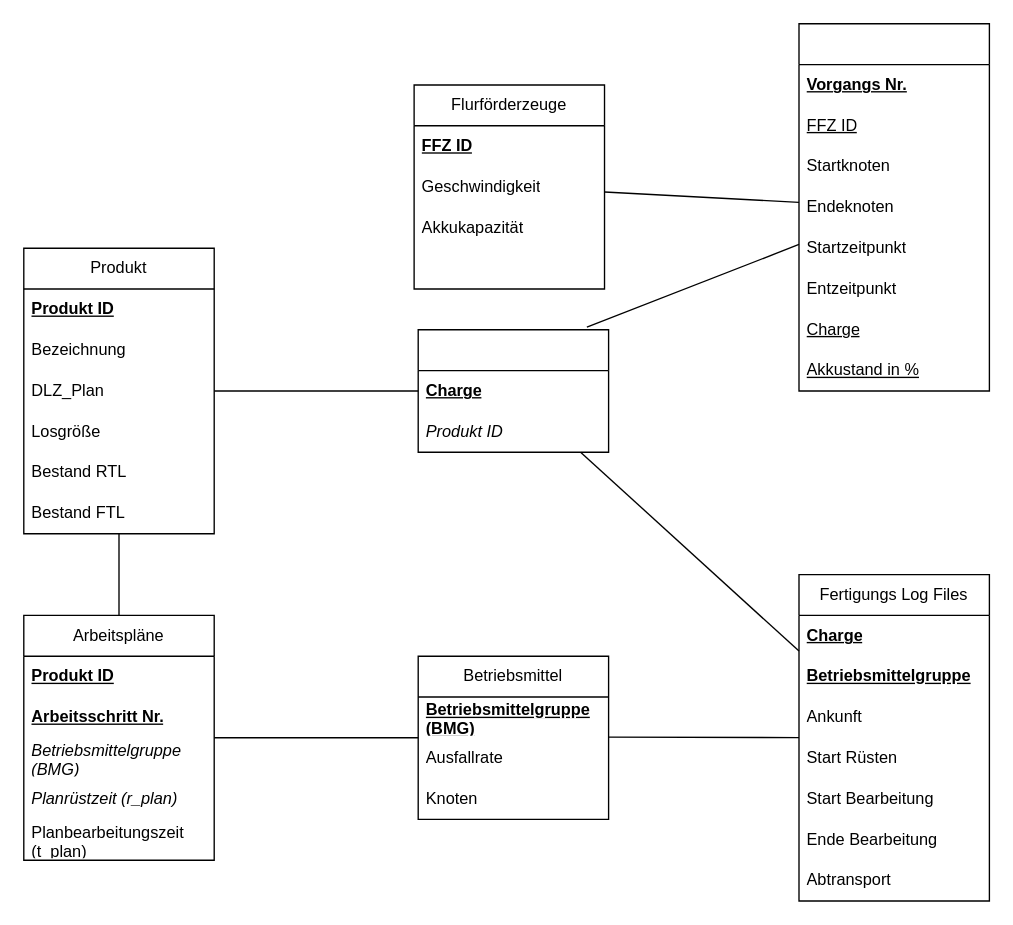
The diagram is 1013 pixels wide and 925 high, and some of its shapes have lost their labels. Here are the shapes that lost their labels. From the top down, the box of each, then its label:
(798, 22, 989, 391): Transport Log Files
(417, 328, 609, 452): Aufträge
